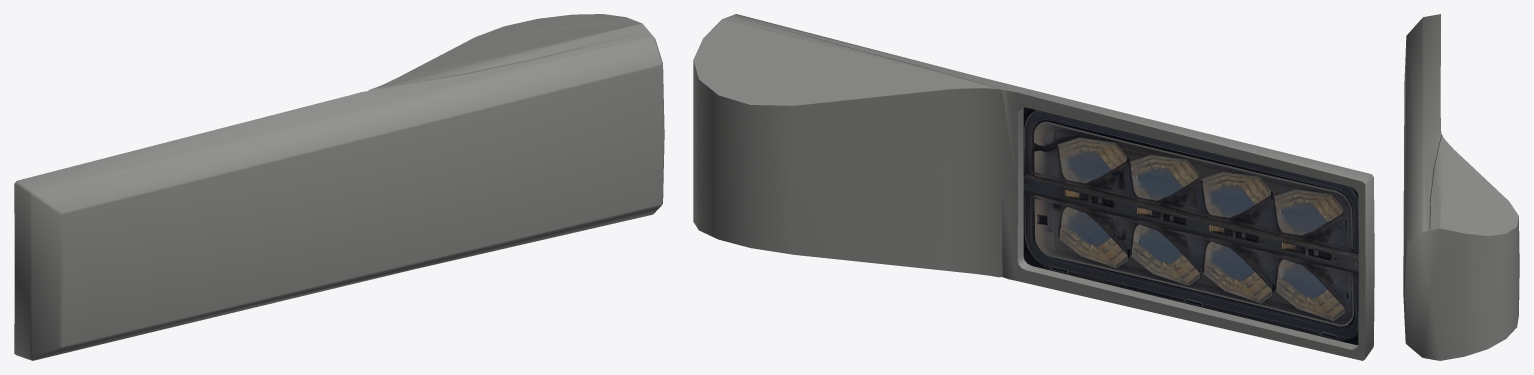
File: Streetlight_10_Mini.obj
The picture shows the model from 3 angles, left to right: view 1: azimuth 30°, elevation 25°; view 2: azimuth 150°, elevation 25°; view 3: azimuth 270°, elevation 25°; orthographic projection. The views are drawn at different scales.
Visible parts, largest first — view 1: BezierCurve.001; view 2: BezierCurve.001; view 3: BezierCurve.001.
Part boxes in pixels (x1,y1,x2,y2): BezierCurve.001: (14, 14, 664, 360); BezierCurve.001: (693, 14, 1374, 360); BezierCurve.001: (1403, 14, 1519, 360).
Bounding box in the file's own units: 0.616 × 0.1732 × 0.1379.
2 materials, 2 textured.
